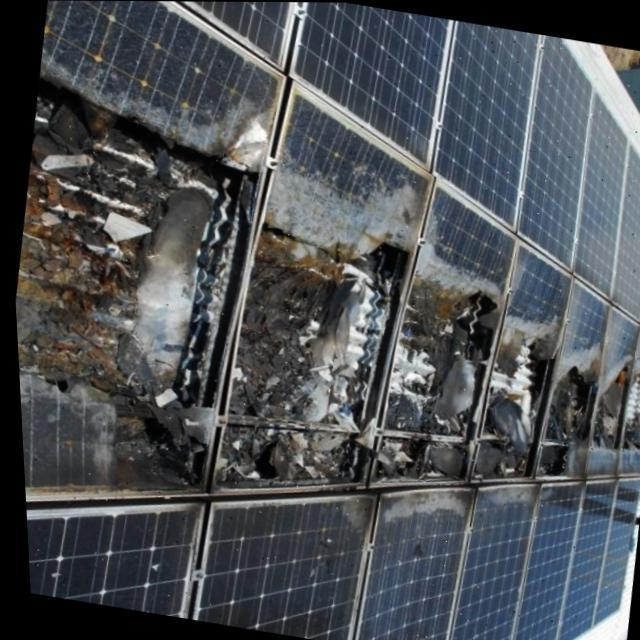Anomaly Solar Panel: (12, 0, 288, 531), (202, 91, 438, 529), (367, 184, 518, 506), (466, 244, 575, 492), (532, 281, 608, 487), (581, 309, 637, 481), (615, 328, 640, 479)
Normal Solar Panel: (515, 35, 597, 265), (566, 85, 634, 297), (610, 140, 640, 319)
Structural Damage: (202, 151, 422, 526), (365, 204, 509, 505), (468, 307, 558, 491), (532, 337, 596, 485), (581, 348, 630, 481), (612, 359, 640, 476)
